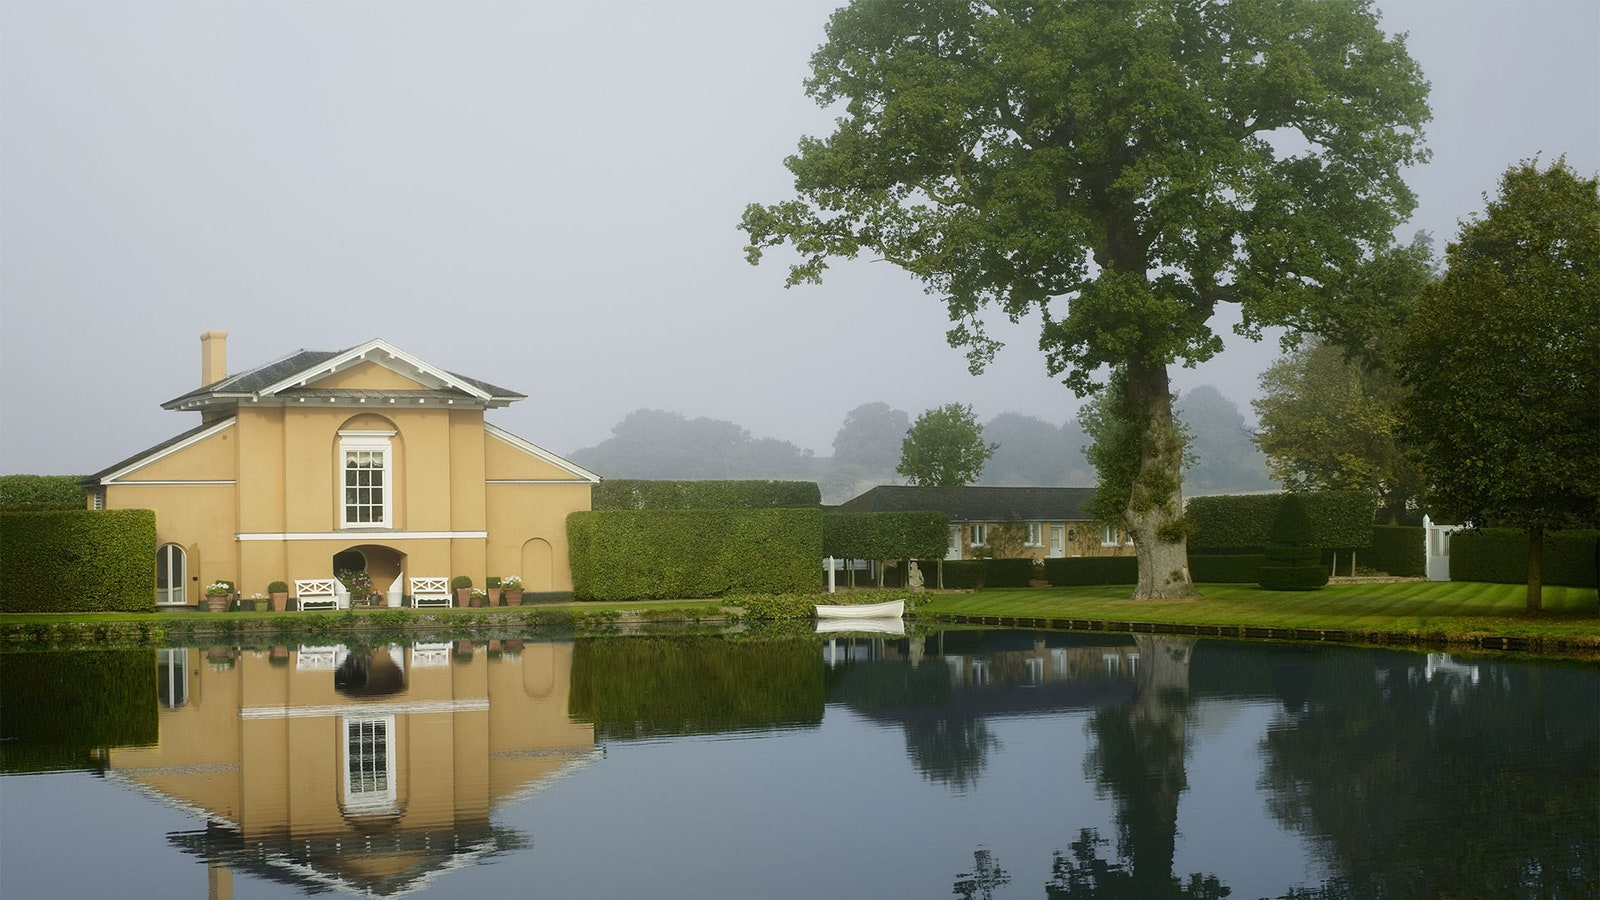Window: (336, 427, 391, 527)
